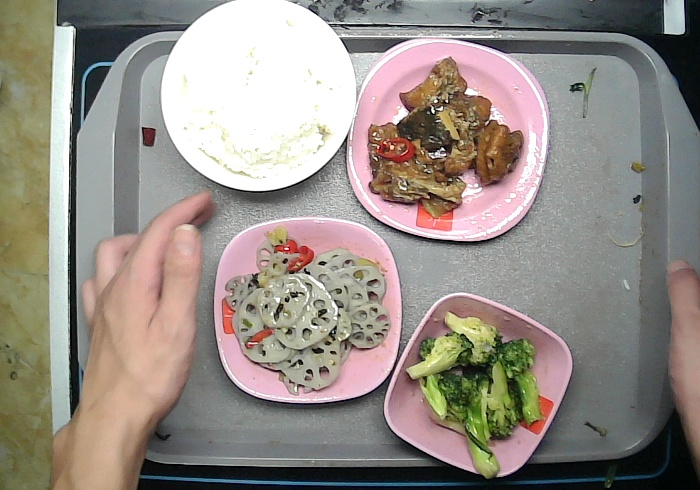SHKJ-Fan_Wan: (159, 1, 358, 193)
SHKJ-Fen_Se_Cai_Die: (211, 214, 405, 404)
SHKJ-Fen_Se_Si_Fang_Cai_Die: (343, 34, 551, 244)
SHKJ-Fen_Se_Xiao_Fang_Die: (380, 289, 576, 480)
